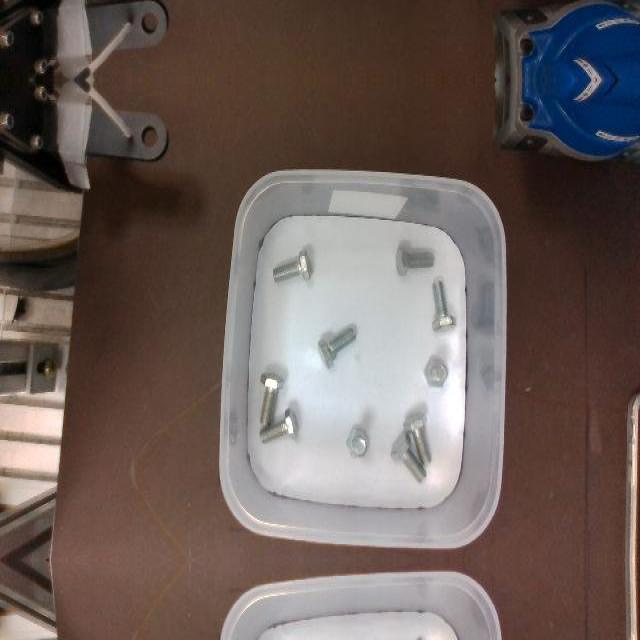screw: (390, 432, 427, 484), (317, 327, 355, 369), (403, 412, 431, 464), (260, 408, 299, 444), (260, 371, 285, 425), (272, 249, 310, 283), (432, 280, 457, 330), (395, 245, 433, 275), (345, 428, 369, 458), (426, 357, 448, 387)
